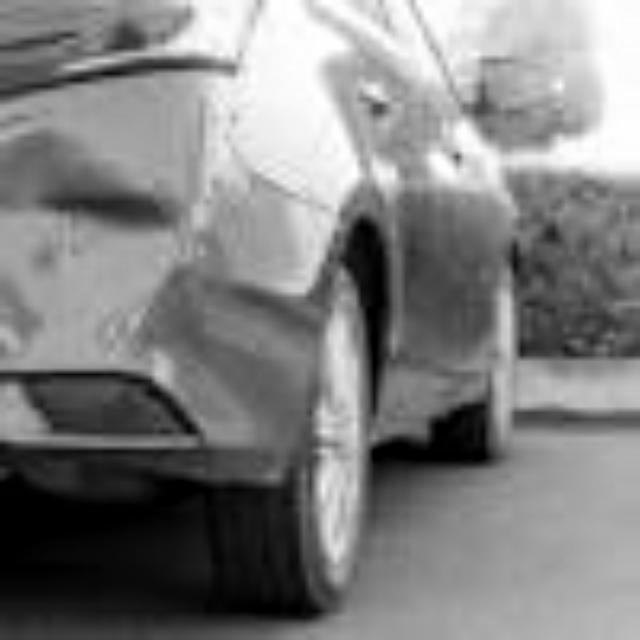rear-bumper-dent: (0, 90, 300, 493)
